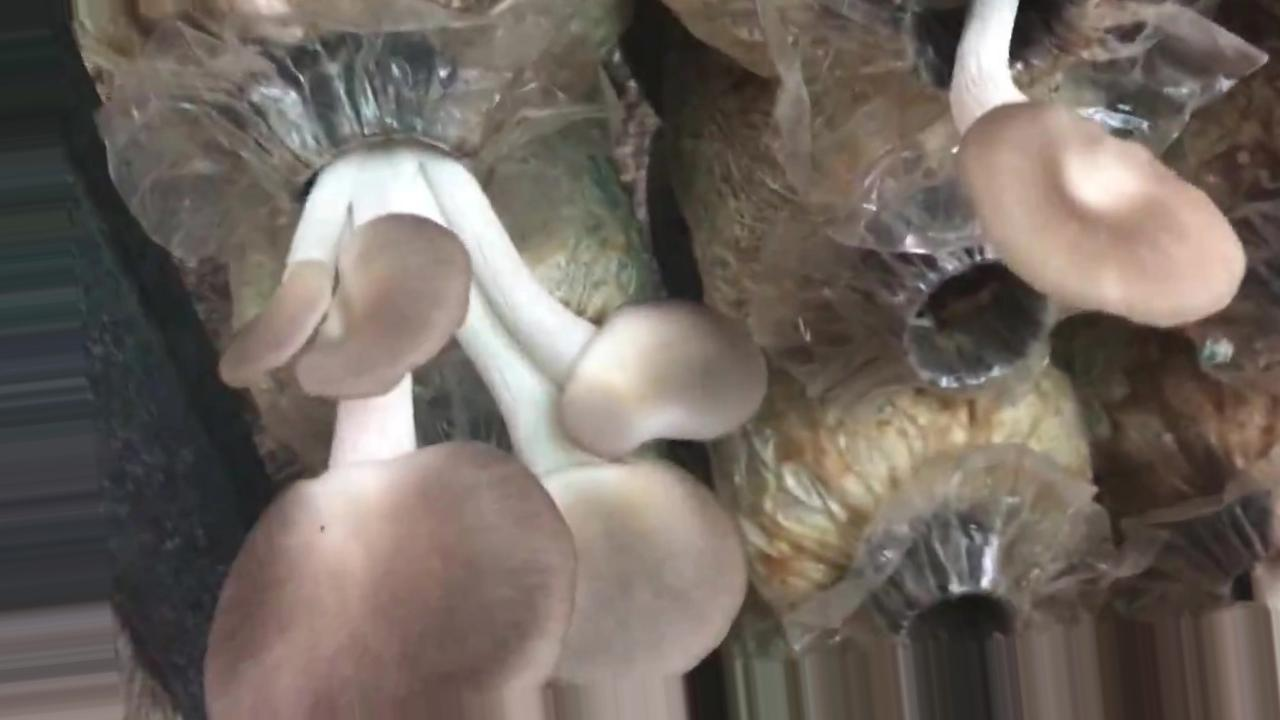nam: (206, 38, 770, 720), (895, 1, 1243, 330)
